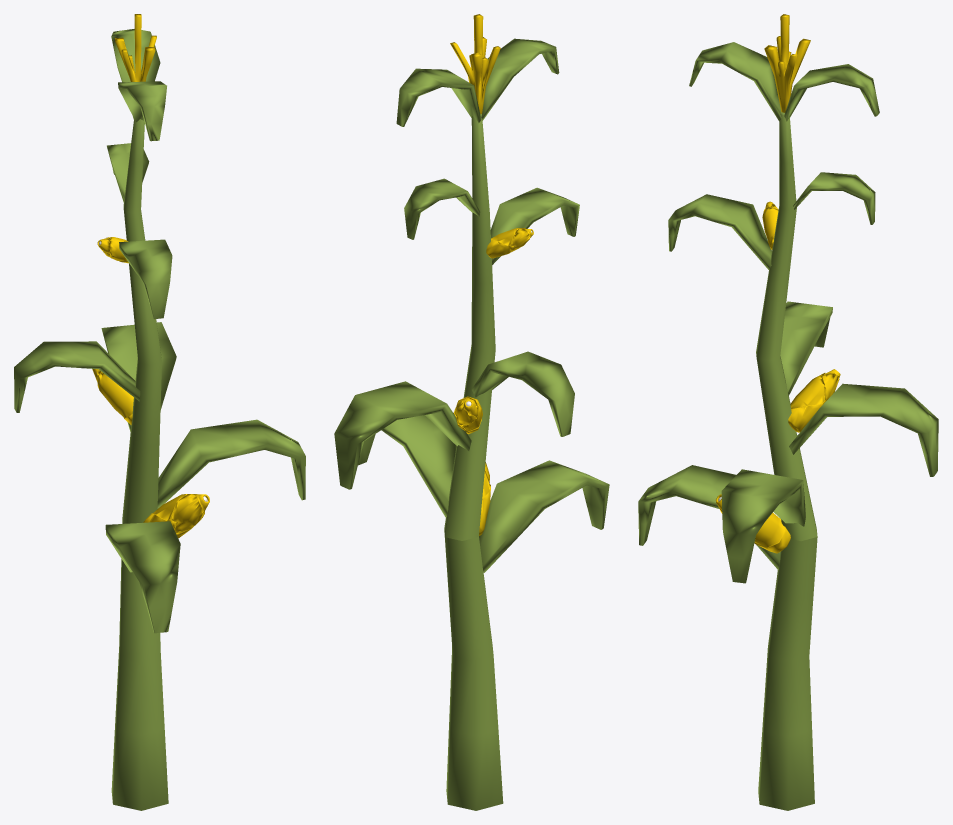
File: cornanimated.glb
3 views of the same model, side by side, from view 1: azimuth 30°, elevation 25°; view 2: azimuth 150°, elevation 25°; view 3: azimuth 270°, elevation 25° (orthographic).
Visible parts, largest first — view 1: Corn-4; view 2: Corn-4; view 3: Corn-4.
Boxes of the visible parts, x1,y1,x2,y2 form: Corn-4: [14, 14, 305, 810]; Corn-4: [334, 14, 609, 810]; Corn-4: [638, 14, 938, 810].
Bounding box in the file's own units: 0.0726 × 0.2148 × 0.075.
Materials: 1 (1 with a texture image).
